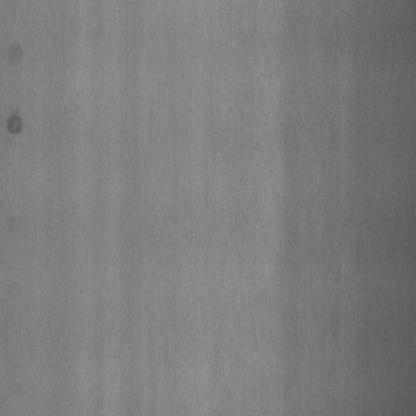oil_spot: (4, 37, 27, 68), (6, 112, 26, 146)
